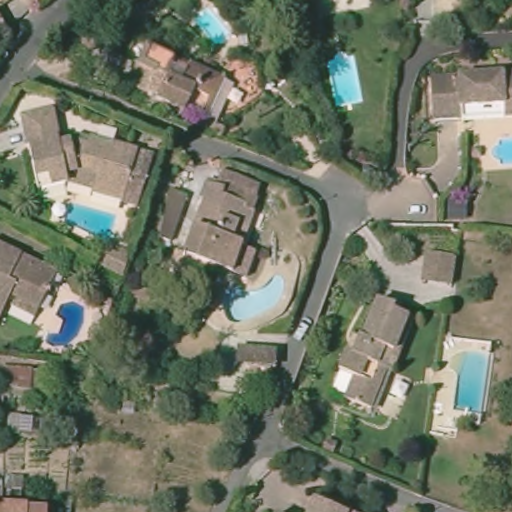pool: (437, 337, 495, 422), (220, 273, 287, 327), (321, 50, 369, 112), (56, 201, 116, 245), (41, 299, 88, 350), (187, 1, 236, 48), (492, 130, 512, 168)
